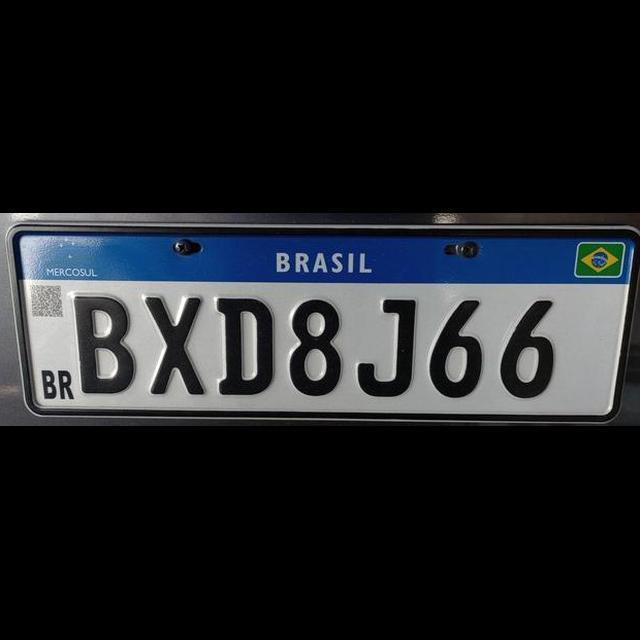Caractere: (140, 290, 206, 400), (72, 292, 138, 396), (216, 294, 278, 398), (357, 294, 417, 398), (426, 296, 486, 399), (497, 296, 555, 400), (288, 295, 344, 397)
Placa: (3, 218, 633, 424)
